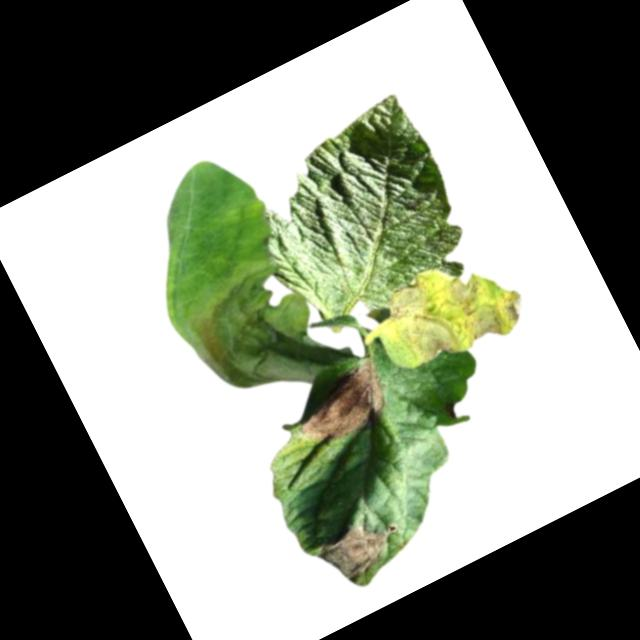Late_blight: (172, 253, 356, 423), (361, 236, 534, 386), (282, 353, 404, 459), (313, 513, 400, 592)
healthy: (222, 89, 486, 349)
